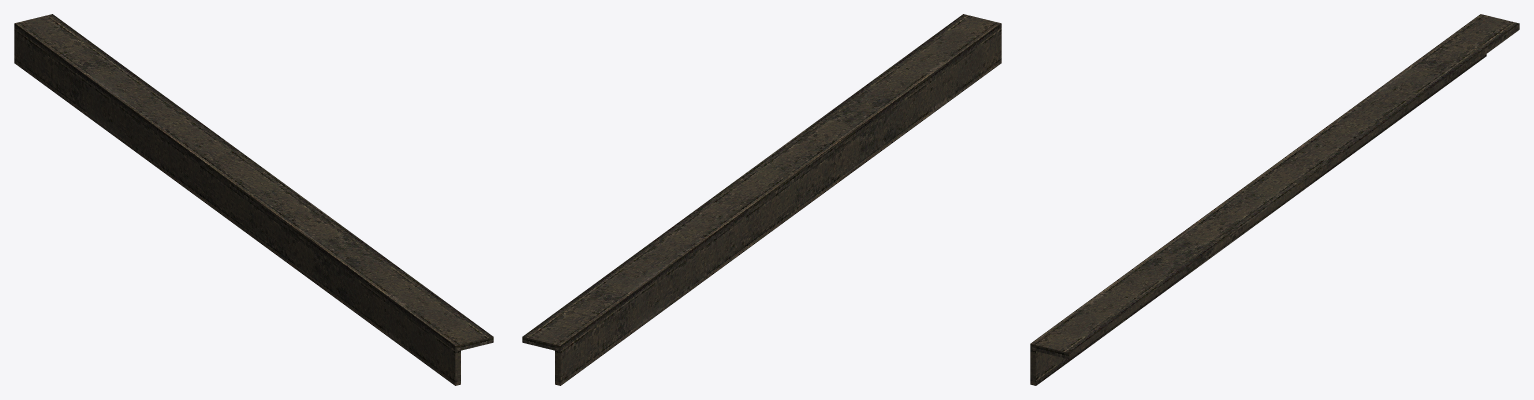
The model's file is seam_hl_2.glb.
3 renders of one model, left to right at view 1: azimuth 30°, elevation 25°; view 2: azimuth 150°, elevation 25°; view 3: azimuth 330°, elevation 25°, orthographic. The views are drawn at different scales.
Visible parts, largest first — view 1: seam_hl_2; view 2: seam_hl_2; view 3: seam_hl_2.
Part boxes in pixels (<box>): seam_hl_2: <box>14,14,493,385</box>; seam_hl_2: <box>522,14,1001,385</box>; seam_hl_2: <box>1030,14,1519,385</box>.
Size of the model in its own units: 0.2 by 0.2 by 4.
1 material, 1 textured.
